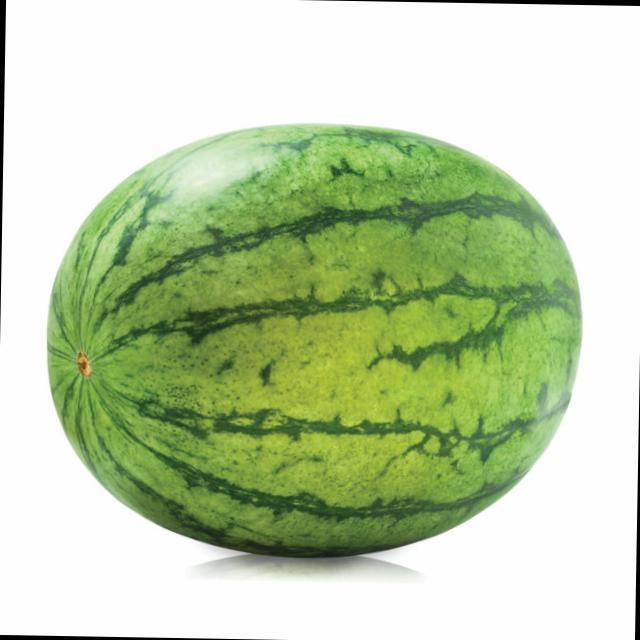WATERMELON: (42, 119, 586, 560), (43, 139, 563, 512), (608, 548, 612, 554)
